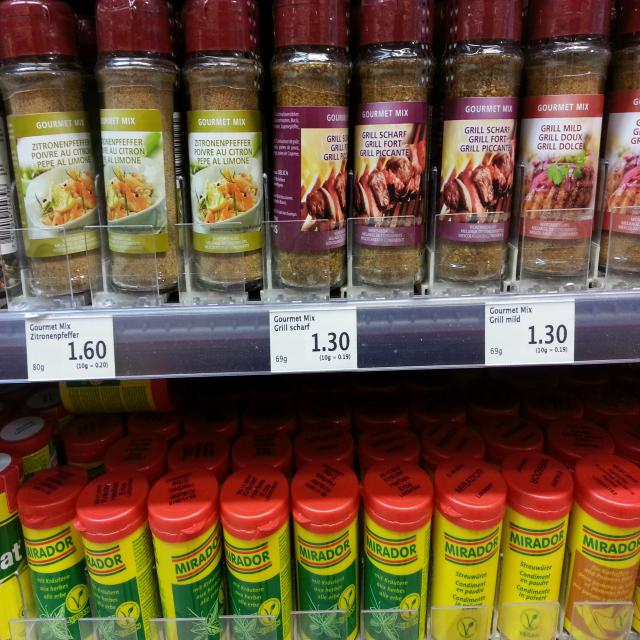Spices: (2, 0, 106, 298), (514, 0, 615, 274), (427, 0, 524, 283), (91, 0, 184, 290), (182, 0, 268, 289), (270, 0, 350, 290), (352, 0, 432, 285), (496, 448, 575, 640), (559, 453, 640, 640), (72, 468, 155, 640), (145, 465, 224, 640), (432, 456, 506, 640), (288, 458, 361, 640), (217, 463, 292, 640), (364, 459, 434, 640), (14, 467, 86, 640)
